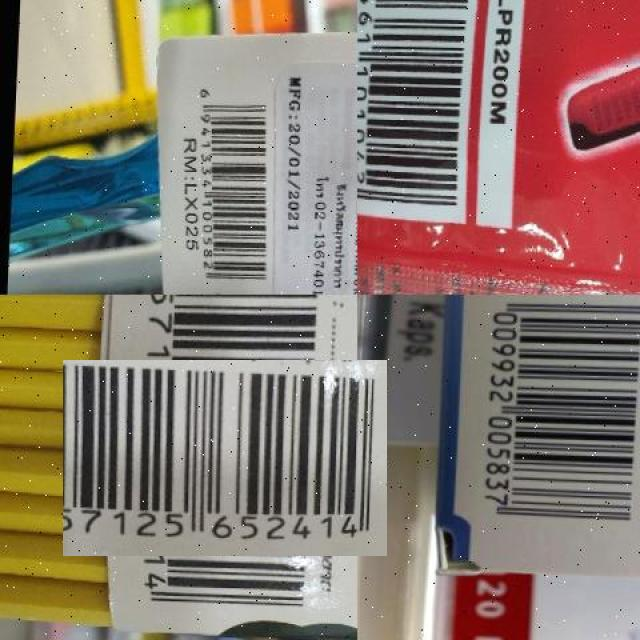Barcode: (94, 327, 355, 588), (470, 295, 640, 537), (357, 0, 476, 224), (184, 81, 275, 295)
